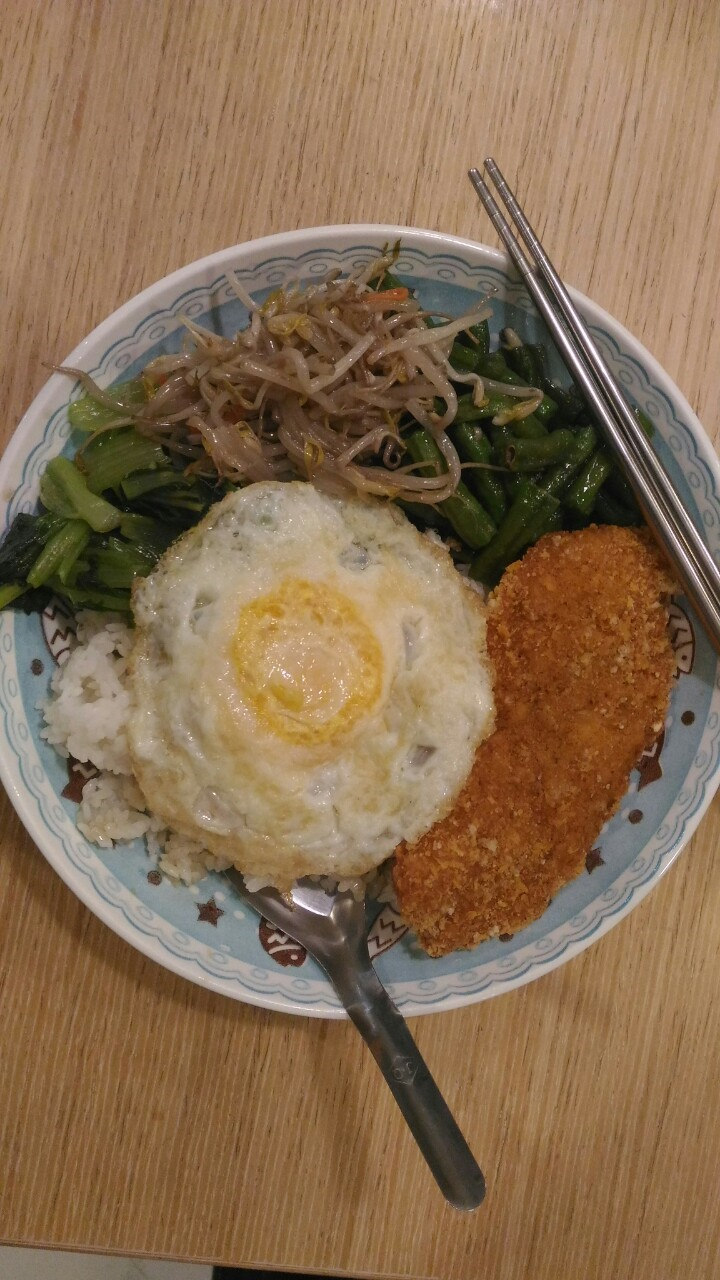fried_chicken: (400, 535, 667, 941)
fried_eggs: (157, 510, 450, 838)
mung_bean_sprouts: (204, 302, 450, 487)
